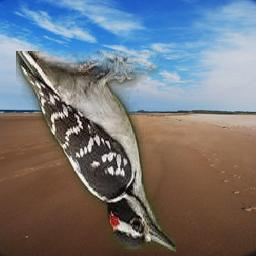Woodpecker: (16, 52, 176, 253)
